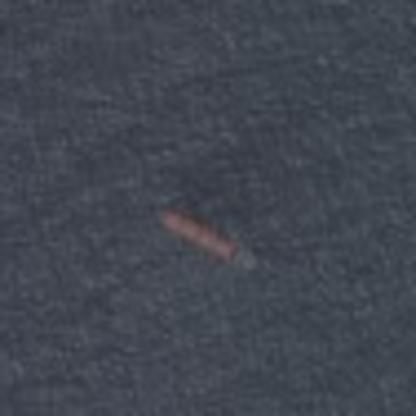ship: (148, 197, 249, 270)
